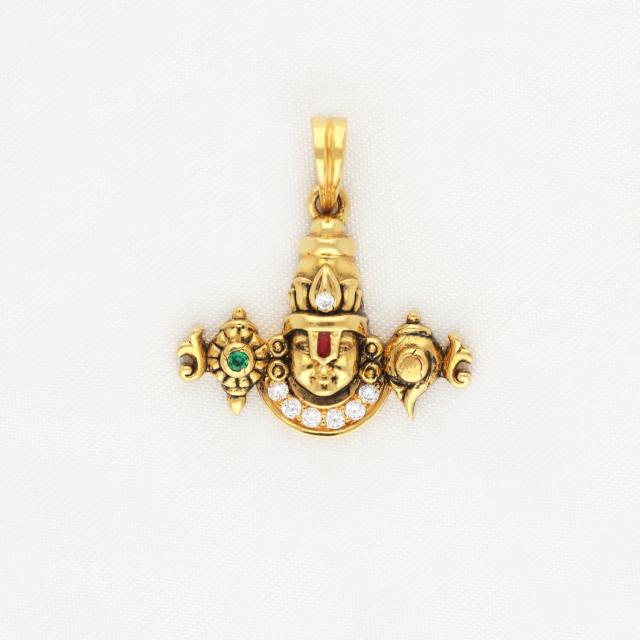missing gem: (400, 357, 422, 378)
